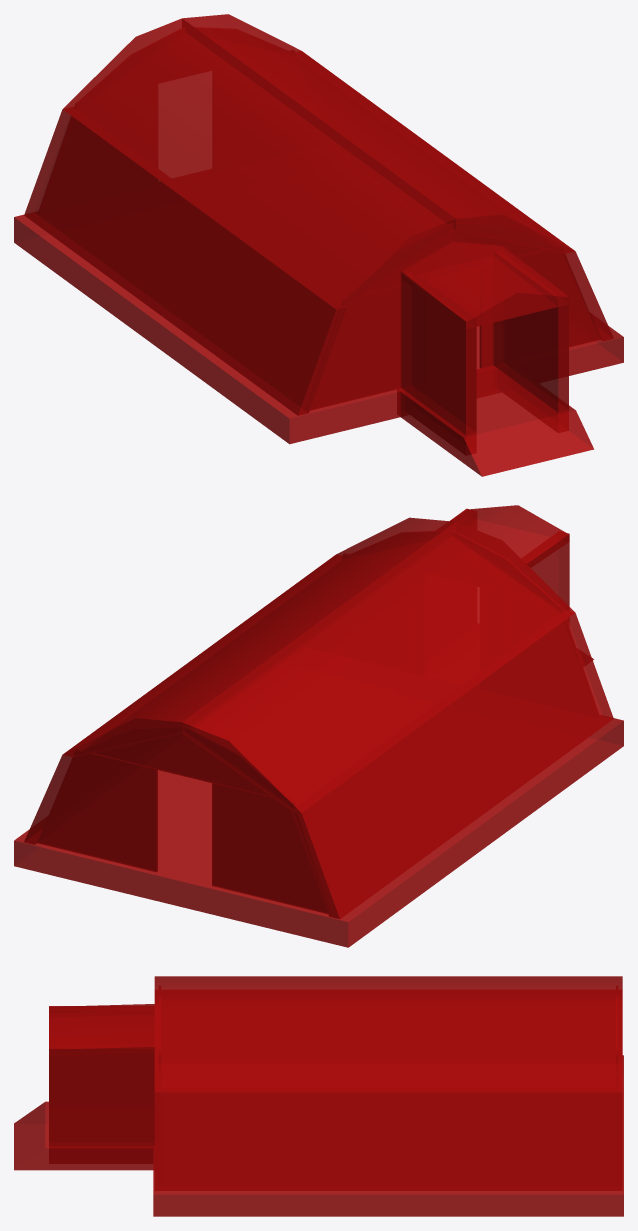
File: SM_Bld_Tent_Entrance_01_Collision.fbx
The picture shows the model from 3 angles, top to bottom: view 1: azimuth 30°, elevation 25°; view 2: azimuth 150°, elevation 25°; view 3: azimuth 270°, elevation 25°; orthographic projection. The views are drawn at different scales.
Visible parts, largest first — view 1: SM_Bld_Tent_Entrance_01_Collision; view 2: SM_Bld_Tent_Entrance_01_Collision; view 3: SM_Bld_Tent_Entrance_01_Collision.
Part boxes in pixels (bbox=[...]): SM_Bld_Tent_Entrance_01_Collision: bbox=[14, 14, 623, 476]; SM_Bld_Tent_Entrance_01_Collision: bbox=[14, 505, 623, 947]; SM_Bld_Tent_Entrance_01_Collision: bbox=[14, 976, 623, 1216].
Bounding box in the file's own units: 768 × 404 × 1420.
